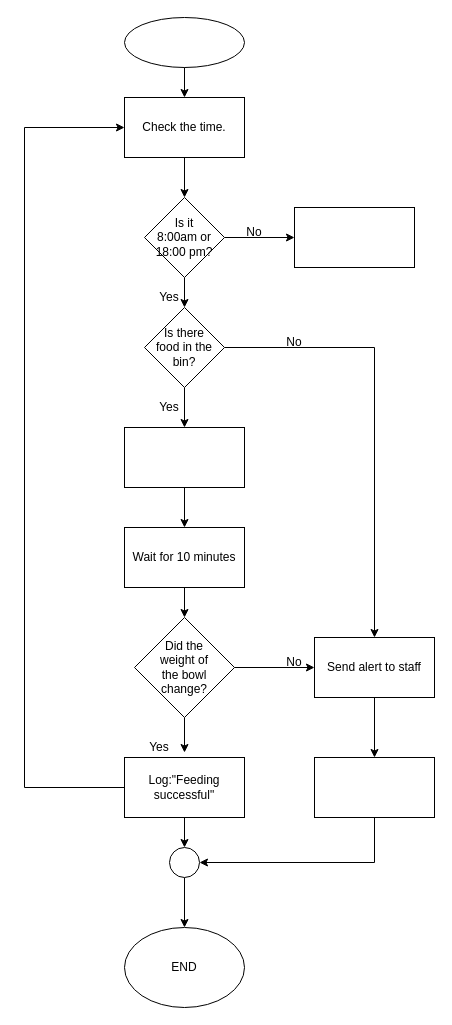
The diagram is 452 pixels wide and 1025 high, and some of its shapes have lost their labels. The centre of each missing label's shape, as x and y in pixels:
Dispense the food from the bin to bowl (rotate for 3 seconds): pixel 184 457
Log:"Feeding unsuccessfull": pixel 374 787
START: pixel 184 42
Wait: pixel 354 237
